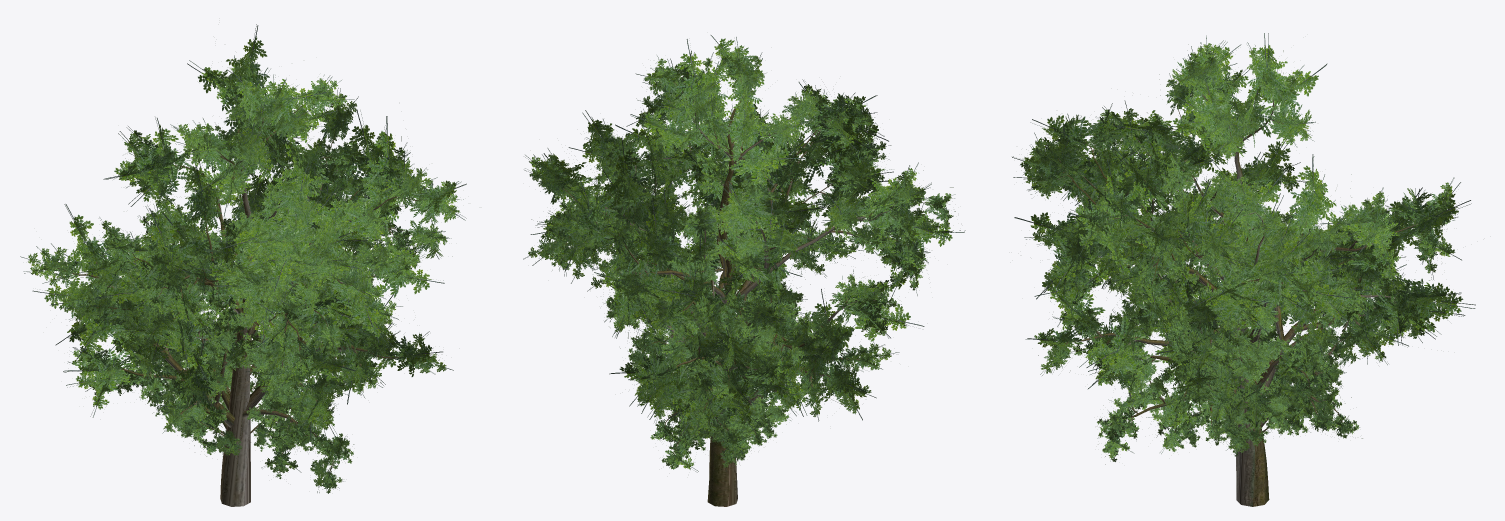
File: ez-ash.glb
3 views of the same model, side by side, from view 1: azimuth 30°, elevation 25°; view 2: azimuth 150°, elevation 25°; view 3: azimuth 270°, elevation 25° (orthographic). The views are drawn at different scales.
Visible parts, largest first — view 1: large_mid, large_near, medium_mid, medium_near, small_near, small_mid; view 2: large_near, large_mid, medium_mid, medium_near, small_mid, small_near; view 3: large_mid, large_near, medium_mid, medium_near, small_mid, small_near.
Boxes of the visible parts, x1,y1,x2,y2 form: large_mid: [32, 24, 466, 506]; large_near: [20, 43, 463, 506]; medium_mid: [113, 208, 387, 492]; medium_near: [112, 209, 380, 493]; small_near: [148, 331, 297, 454]; small_mid: [146, 348, 298, 458]; large_near: [523, 43, 955, 506]; large_mid: [530, 35, 965, 506]; medium_mid: [604, 178, 807, 472]; medium_near: [604, 177, 810, 469]; small_mid: [662, 339, 790, 471]; small_near: [672, 335, 788, 464]; large_mid: [1012, 33, 1475, 506]; large_near: [1020, 35, 1456, 506]; medium_mid: [1098, 186, 1376, 461]; medium_near: [1097, 189, 1369, 464]; small_mid: [1182, 322, 1317, 454]; small_near: [1177, 319, 1314, 456].
Bounding box in the file's own units: 16.27 × 18.52 × 16.87.
Materials: 3 (3 with a texture image).
